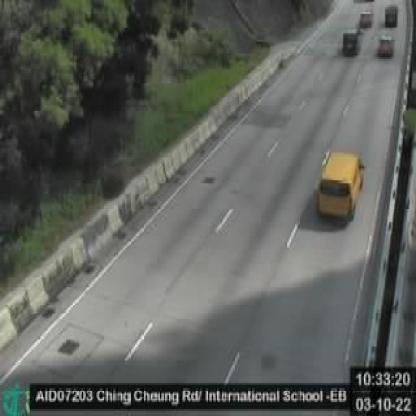Car: (316, 149, 363, 222), (374, 33, 394, 57), (344, 28, 362, 53), (357, 8, 372, 30)
